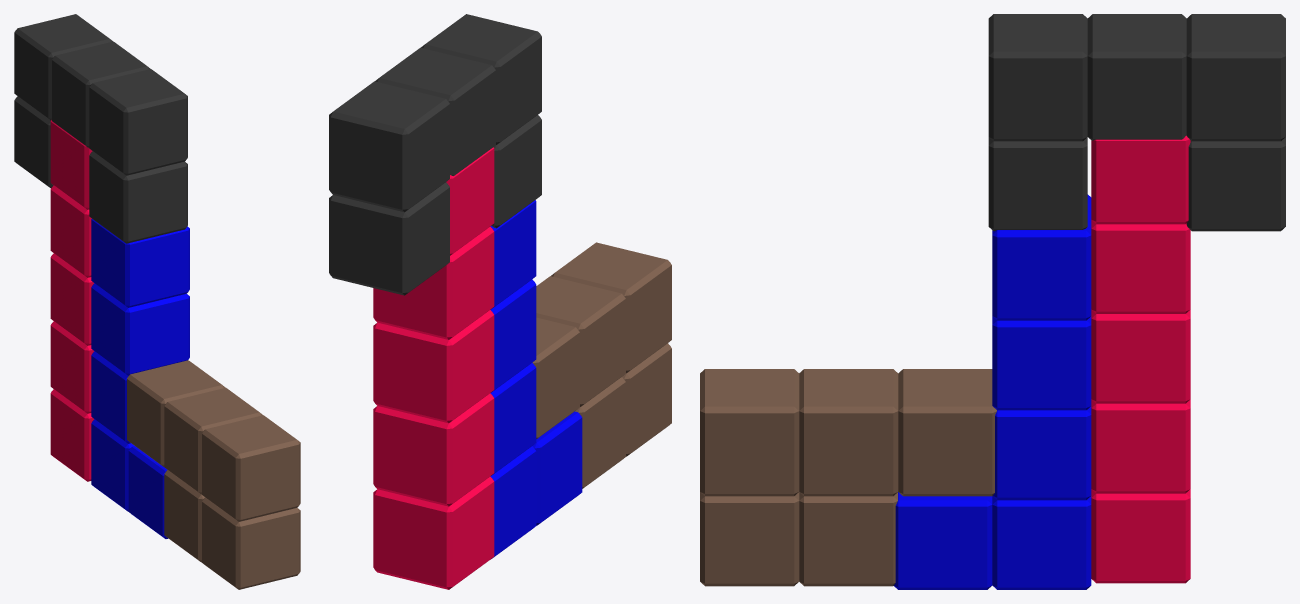
The model's file is Figur2.glb.
3 views of the same model, side by side, from view 1: azimuth 30°, elevation 25°; view 2: azimuth 150°, elevation 25°; view 3: azimuth 270°, elevation 25° (orthographic). The views are drawn at different scales.
Parts seen in each view (by area): view 1: Cube.010, Cube.032, Cube.030, Cube.011, Cube.039, Cube.041, Cube.007, Cube.008, Cube.034, Cube.035, Cube.004, Cube.005 (+8 smaller); view 2: Cube.034, Cube.005, Cube.003, Cube.004, Cube.033, Cube.001, Cube.010, Cube.032, Cube.035, Cube.007, Cube.008, Cube.038 (+8 smaller); view 3: Cube.032, Cube.007, Cube.010, Cube.034, Cube.035, Cube.008, Cube.041, Cube.038, Cube.005, Cube.039, Cube.003, Cube.011 (+8 smaller).
Part boxes in pixels (x1,y1,x2,y2): Cube.010: (202, 415, 300, 521); Cube.032: (89, 69, 187, 175); Cube.030: (89, 151, 187, 243); Cube.011: (202, 497, 300, 589); Cube.039: (91, 283, 189, 375); Cube.041: (91, 219, 189, 307); Cube.007: (164, 387, 262, 494); Cube.008: (127, 360, 225, 466); Cube.034: (14, 14, 112, 120); Cube.035: (52, 41, 150, 147); Cube.004: (50, 253, 94, 345); Cube.005: (50, 389, 94, 481); Cube.034: (329, 81, 449, 212); Cube.005: (373, 476, 494, 589); Cube.003: (373, 393, 494, 506); Cube.004: (373, 310, 494, 423); Cube.033: (329, 182, 449, 295); Cube.001: (373, 226, 494, 339); Cube.010: (551, 242, 671, 373); Cube.032: (421, 14, 541, 144); Cube.035: (375, 47, 495, 175); Cube.007: (536, 276, 625, 406); Cube.008: (532, 317, 579, 438); Cube.038: (532, 411, 582, 525); Cube.032: (988, 14, 1087, 141); Cube.007: (799, 369, 898, 496); Cube.010: (700, 369, 799, 496); Cube.034: (1186, 14, 1285, 141); Cube.035: (1087, 14, 1186, 140); Cube.008: (898, 369, 996, 496); Cube.041: (992, 194, 1091, 320); Cube.038: (893, 492, 992, 589); Cube.005: (1091, 489, 1190, 583); Cube.039: (992, 316, 1091, 410); Cube.003: (1091, 399, 1190, 493); Cube.011: (700, 492, 799, 586).
Size of the model in its own units: 2.1 by 11.94 by 11.83.
